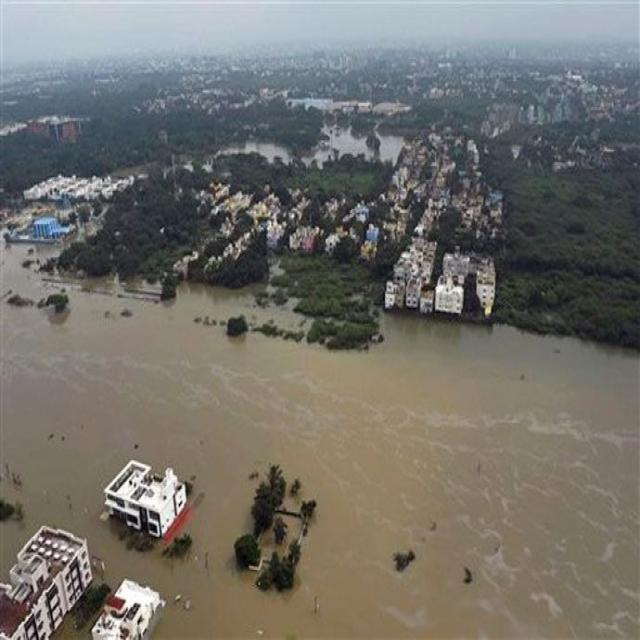flooded_areas: (0, 397, 333, 639), (0, 162, 128, 313)
